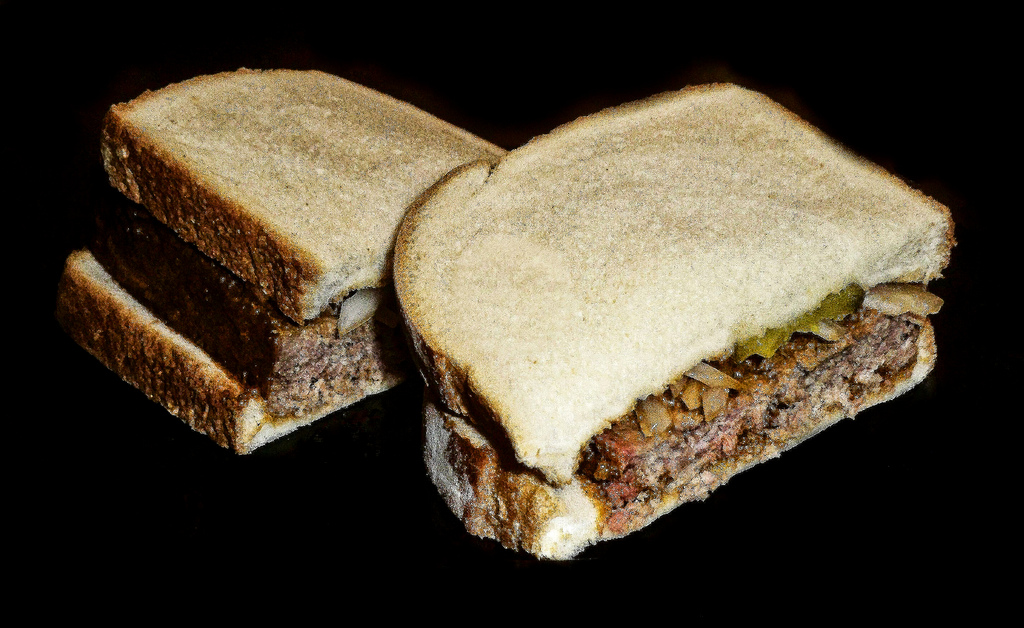slice of bread: (383, 78, 963, 559), (62, 71, 494, 449)
